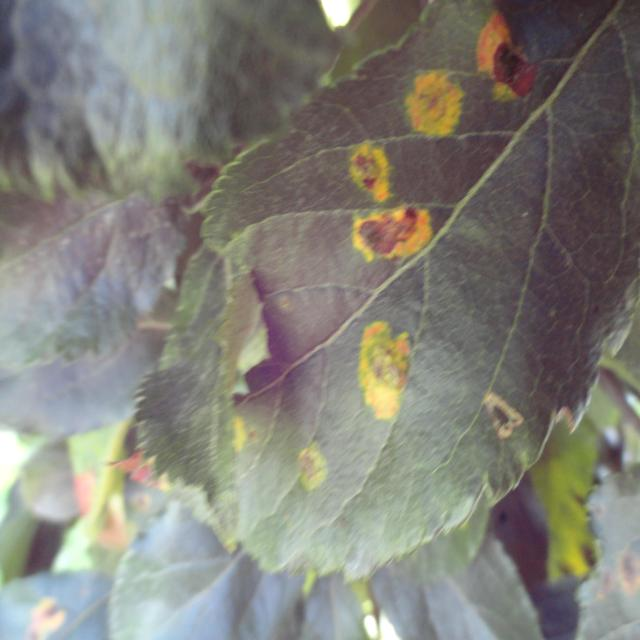rust: (132, 2, 639, 583)
